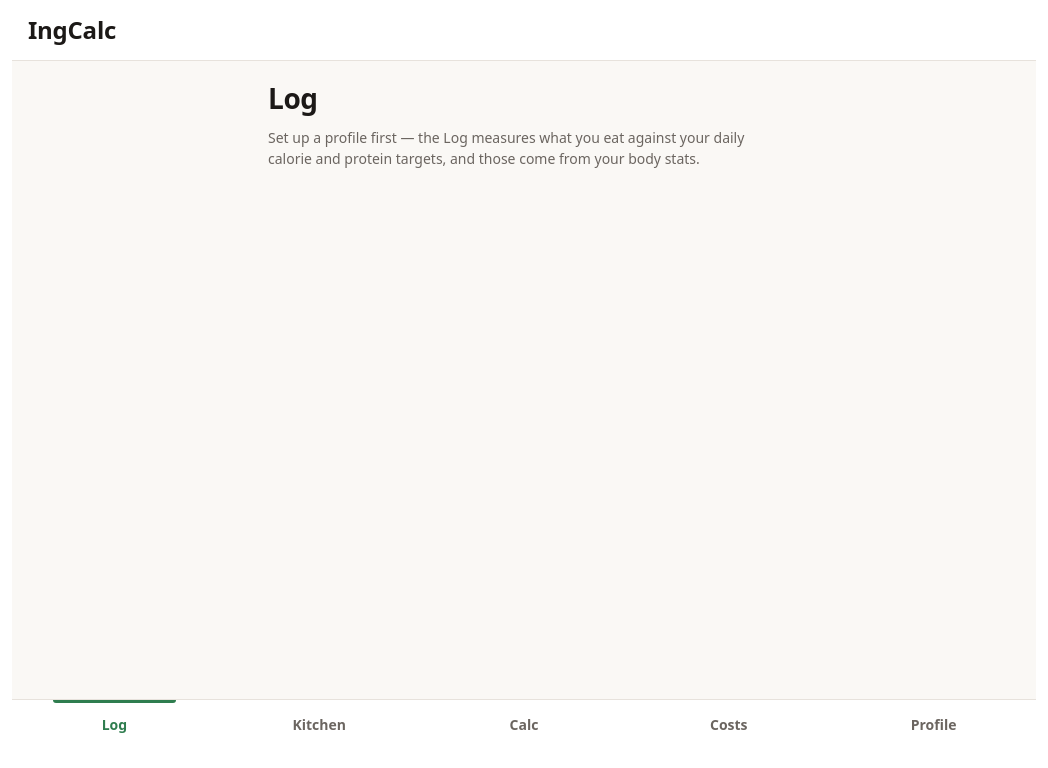
Test: App active profile › asks for a profile again once the last one is deleted
Click the tab "Profile".
click(934, 734)  # box left=831, top=700, right=1036, bottom=767
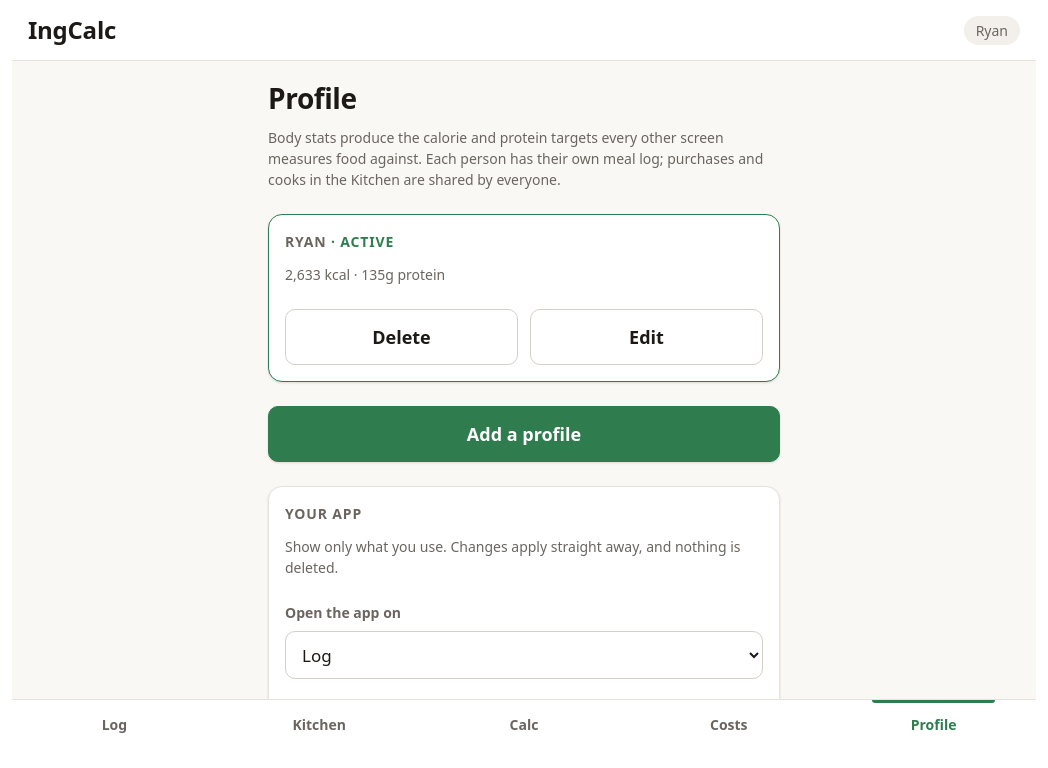
Click the button "Delete".
click(402, 337)  # box left=285, top=309, right=518, bottom=365
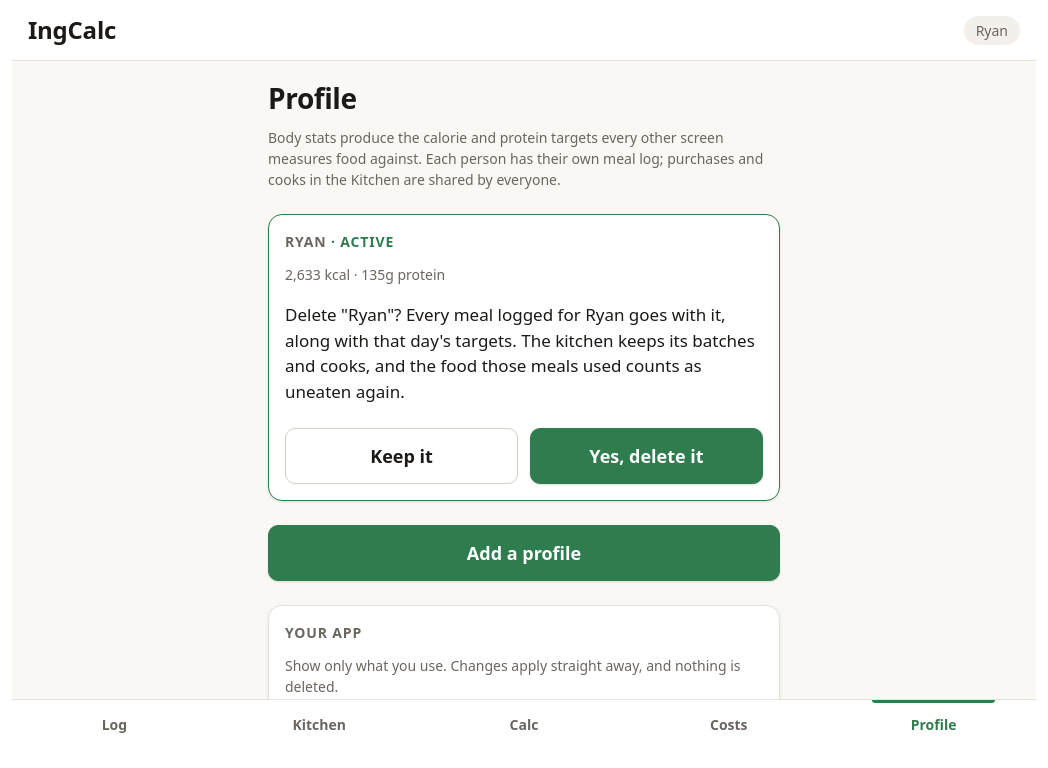
Click the button "Yes, delete it".
click(646, 456)  # box left=530, top=428, right=763, bottom=484
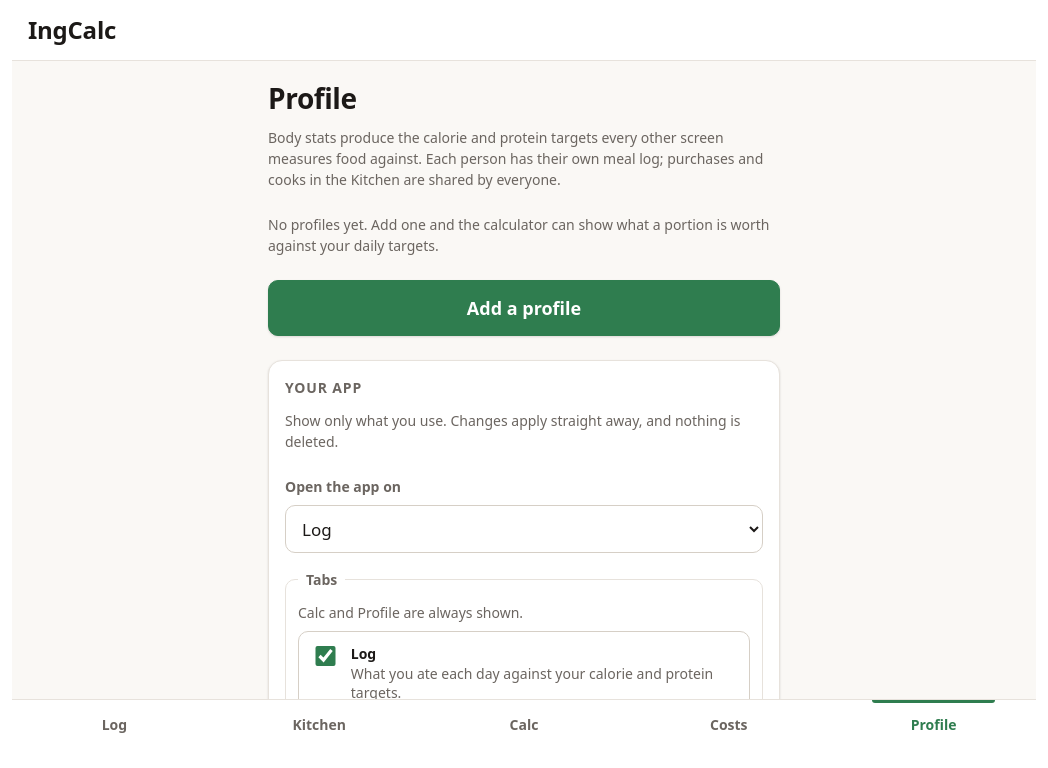
Check: the text with test id "profiles-empty" is shown, box left=268, top=214, right=780, bottom=256
Click the tab "Calc".
click(524, 734)  # box left=422, top=700, right=626, bottom=767
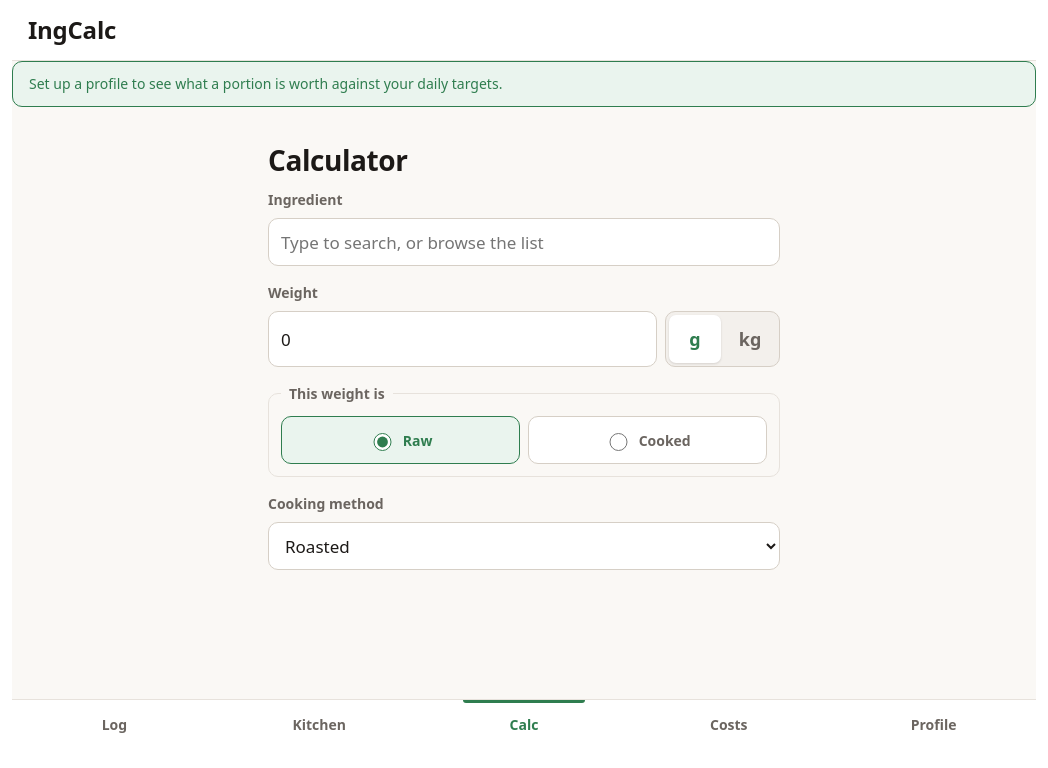
Check: the text "Set up a profile" is shown, box left=29, top=74, right=502, bottom=93
